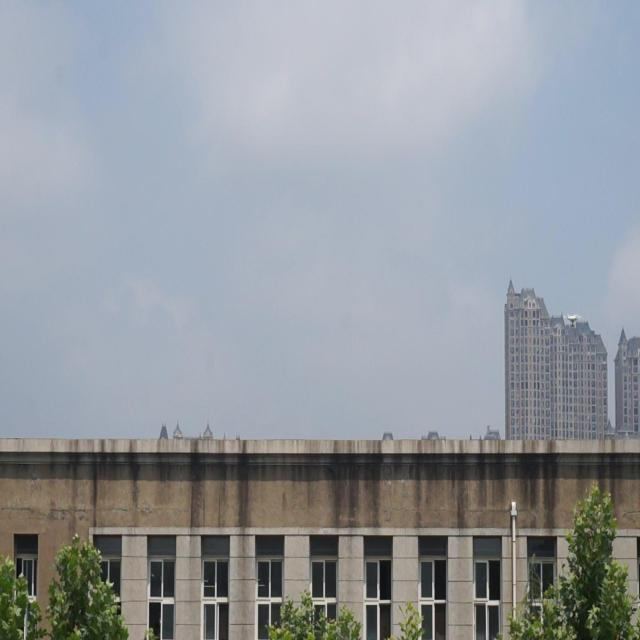drone: (564, 310, 582, 328)
